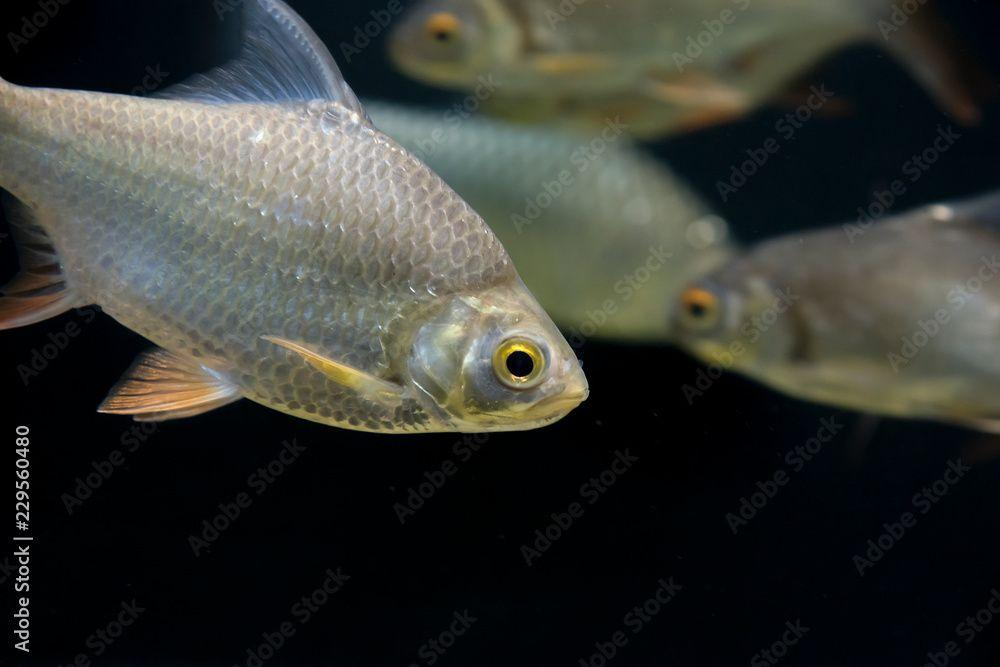Silver Barb: (2, 5, 585, 438), (674, 197, 1000, 442)
